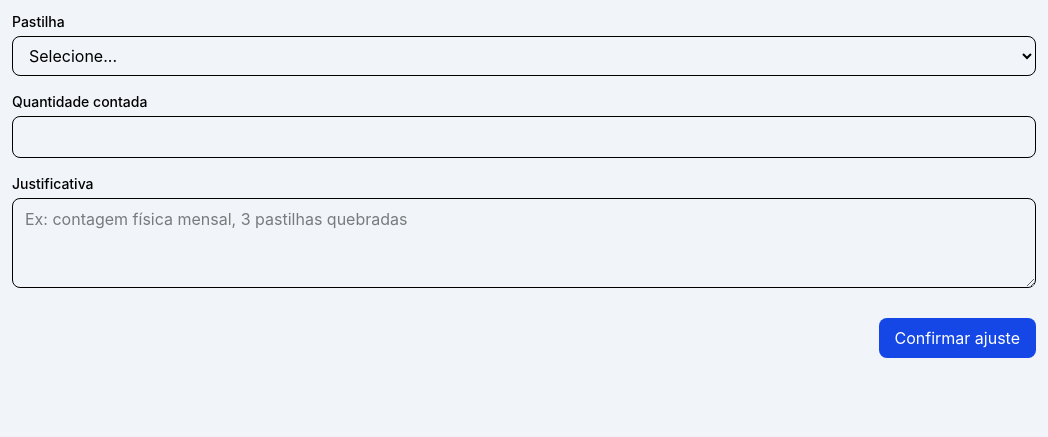
it: AjusteInventarioForm › CT74 - RF14/RN05: exige justificativa para o ajuste manual e envia quando informada
Later steps or results of the test are not shown.
Select "PST-001 - CNMG" in the dropdown labelled "Pastilha" at (524, 56), box [12,36,1036,76]
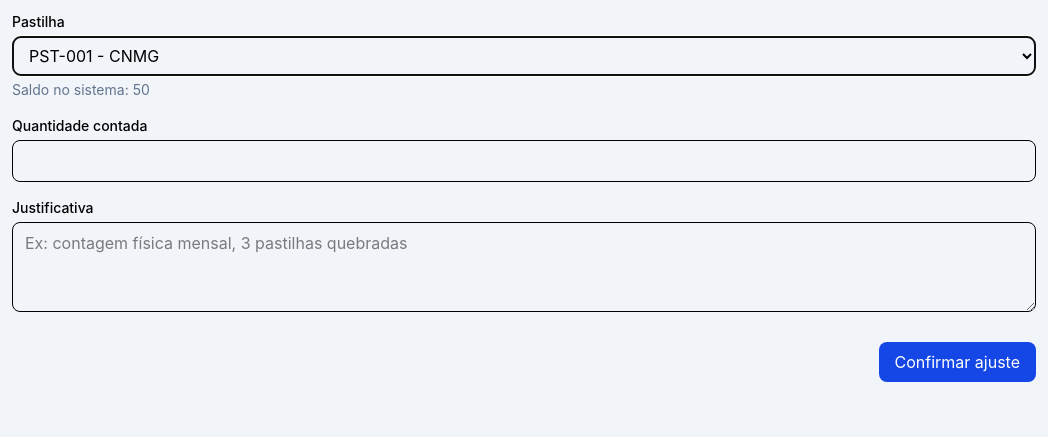
Result: the text with test id "saldo-sistema" reads "Saldo no sistema: 50" at [12,81,150,98]
Type "47" into the number field labelled "Quantidade contada" at (524, 161), box [12,140,1036,182]
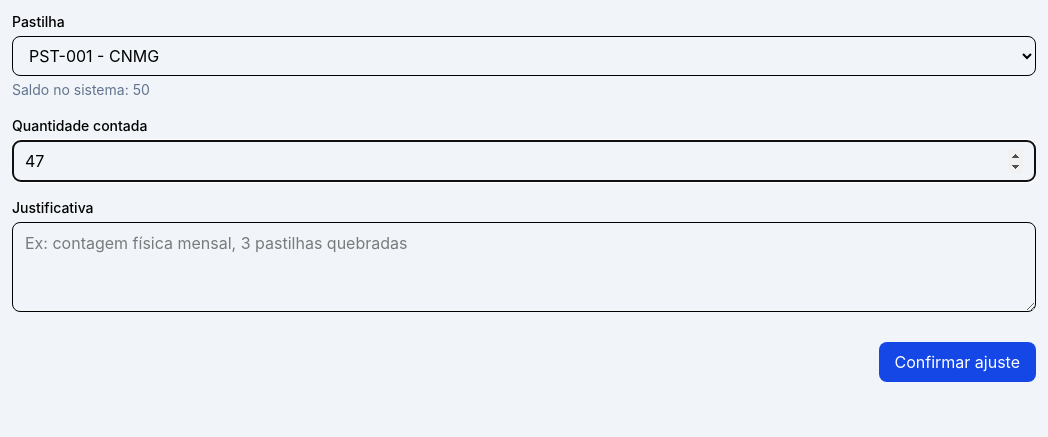
Click the button "Confirmar ajuste" at (957, 362), box [878,342,1036,382]
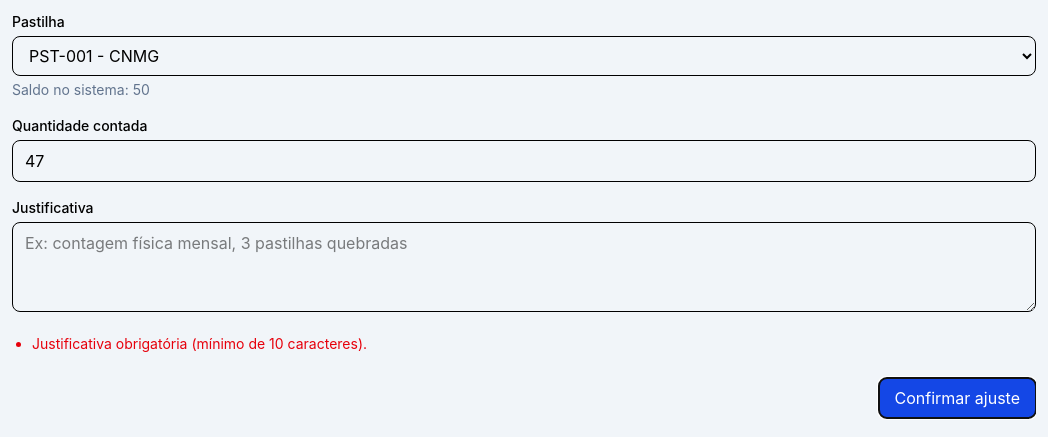
Result: the message reads "Justificativa obrigatória (mínimo de 10 caracteres)." at [32,335,367,352]
